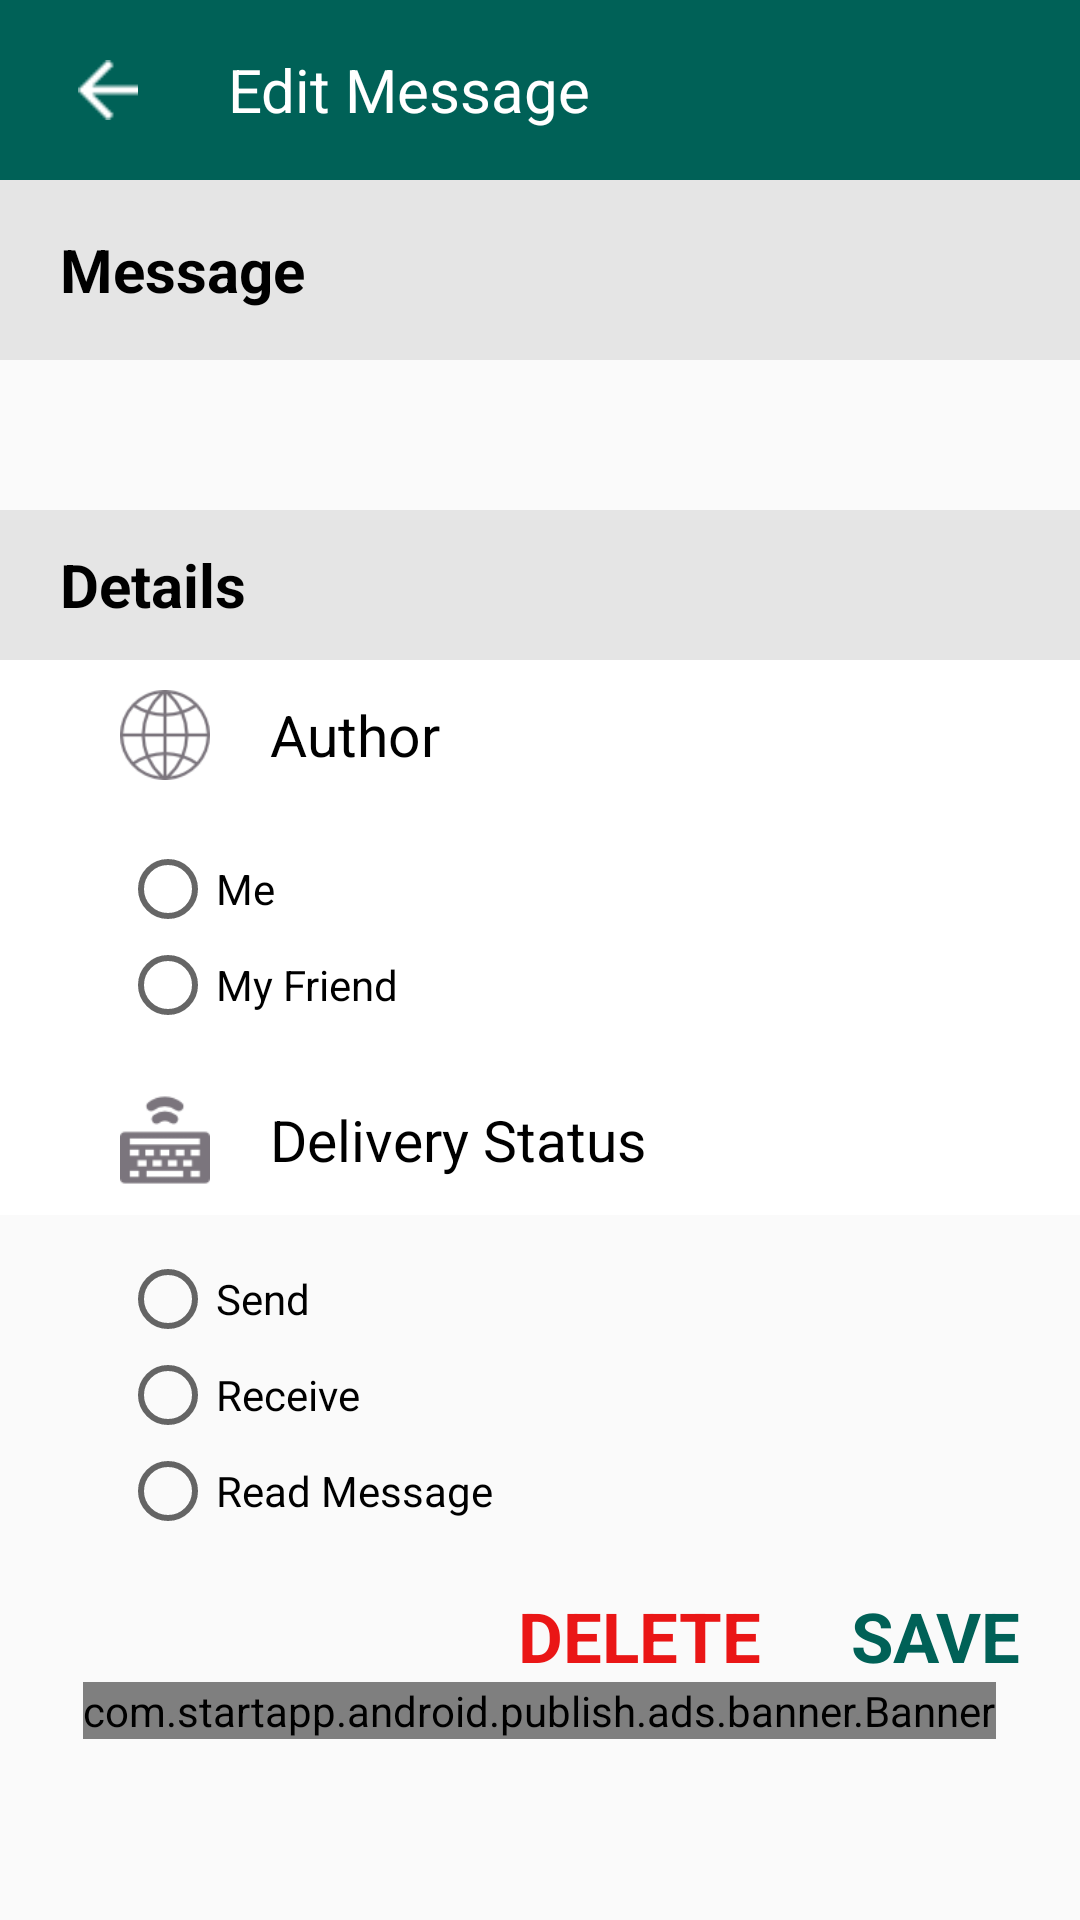

Icons on this 1080 × 1920 Android screen, each with its box as [x1, y1, x2, y2]:
back: [78, 60, 138, 120]
online: [120, 690, 210, 780]
typing: [120, 1096, 210, 1184]
